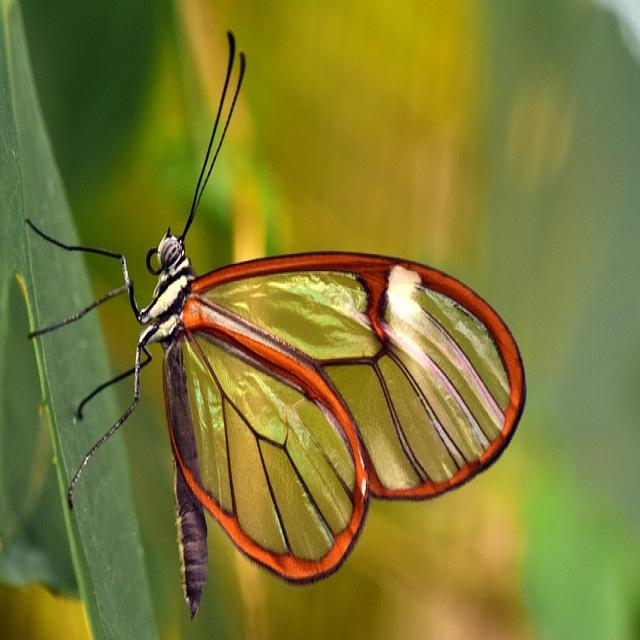butterfly: (134, 234, 525, 609)
